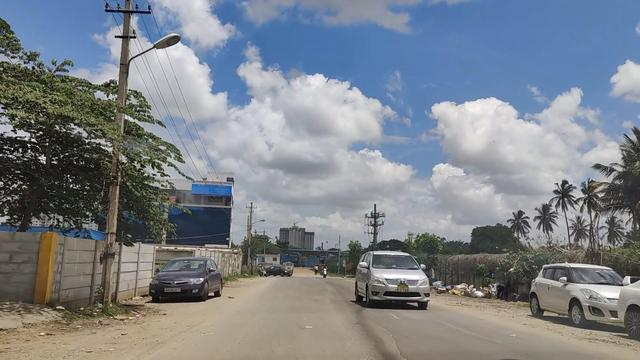LMV: (347, 230, 436, 312), (528, 256, 623, 330), (150, 259, 230, 306)
RoadDamages: (363, 316, 411, 360)
UnsurfacedRoad: (37, 302, 196, 360)
